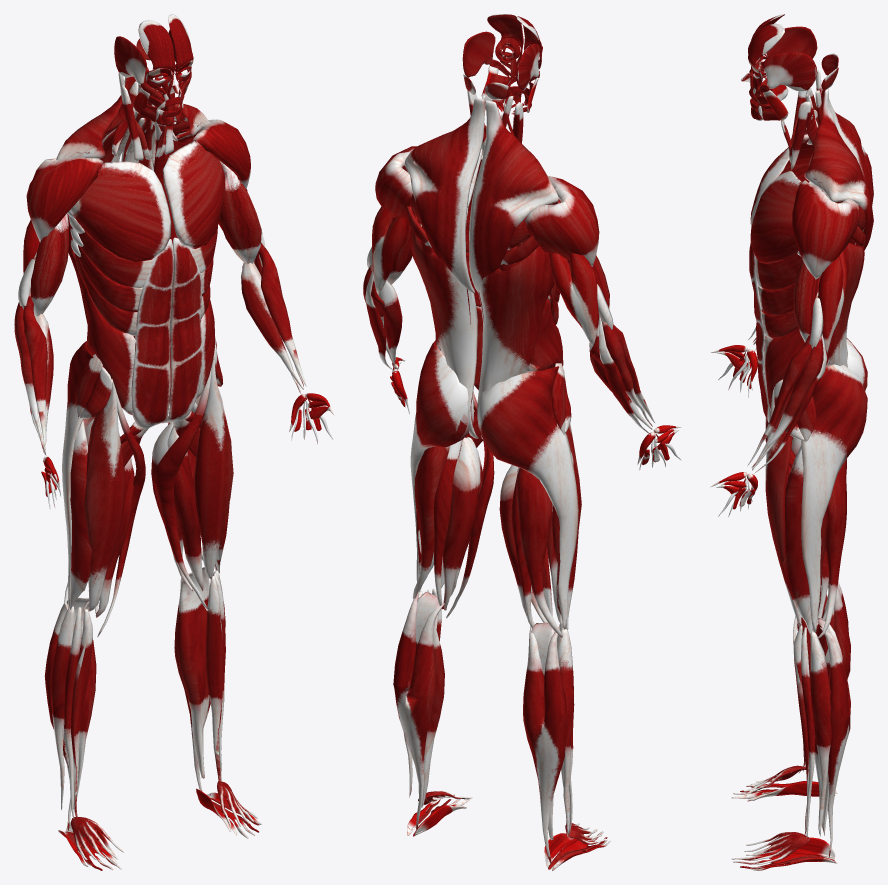
Rendered from Muscles.FBX.
3 renders of one model, left to right at view 1: azimuth 30°, elevation 25°; view 2: azimuth 150°, elevation 25°; view 3: azimuth 270°, elevation 25°, orthographic.
Parts seen in each view (by area): view 1: TorsoMusclesRectusAbdominisMuscle, TorsoMusclesPectoralMuscleRight, LegMusclesRectusFemorisMuscleRight, TorsoMusclesPectoralMuscleLeft, LegMusclesRectusFemorisMuscleLeft, LegMusclesSoleusMuscleLeft, ArmMusclesDeltoideusMuscleRight, TorsoMusclesObliqueRight04, LegMusclesSartoriusMuscleLeft, LegMusclesVastusLateralisMuscleRight, ArmMusclesBicepsBrachiiLeft, ArmMusclesBicepsBrachiiRight (+33 smaller); view 2: LegMusclesTensorFasciaeLataeMuscleRight, TorsoMusclesTrapeziusMuscleRight, TorsoMusclesTrapeziusMuscleLeft, TorsoMusclesLatissimMuscleRight, LegMusclesGastrocnemiusMuscleRight, TorsoMusclesLatissimMuscleLeft, LegMusclesGastrocnemiusMuscleLeft, LegMusclesTensorFasciaeLataeMuscleLeft, ArmMusclesDeltoideusMuscleRight, LegMusclesBicepFemorisMuscleRight1, LegMusclesVastusIntermediusMuscleLeft, ArmMusclesTricepMucsleRight (+21 smaller); view 3: LegMusclesTensorFasciaeLataeMuscleLeft, ArmMusclesDeltoideusMuscleLeft, TorsoMusclesTrapeziusMuscleLeft, LegMusclesVastusLateralisMuscleLeft, TorsoMusclesPectoralMuscleLeft, LegMusclesGastrocnemiusMuscleLeft, LegMusclesPeroneuslongusMuscleLeft, LegMusclesRectusFemorisMuscleLeft, LegMusclesBicepFemorisMuscleLeft1, ArmMusclesTricepMucsleLeft, TorsoMusclesLatissimMuscleLeft, HeadMusclesTemporalMuscleLeft (+29 smaller).
Boxes of the visible parts, left/top/right/bottom form: TorsoMusclesRectusAbdominisMuscle: left=131, top=237, right=203, bottom=429; TorsoMusclesPectoralMuscleRight: left=70, top=161, right=171, bottom=262; LegMusclesRectusFemorisMuscleRight: left=84, top=383, right=125, bottom=611; TorsoMusclesPectoralMuscleLeft: left=162, top=140, right=225, bottom=249; LegMusclesRectusFemorisMuscleLeft: left=194, top=358, right=233, bottom=579; LegMusclesSoleusMuscleLeft: left=176, top=567, right=209, bottom=778; ArmMusclesDeltoideusMuscleRight: left=26, top=156, right=103, bottom=242; TorsoMusclesObliqueRight04: left=78, top=271, right=135, bottom=414; LegMusclesSartoriusMuscleLeft: left=153, top=354, right=214, bottom=610; LegMusclesVastusLateralisMuscleRight: left=70, top=420, right=92, bottom=609; ArmMusclesBicepsBrachiiLeft: left=219, top=162, right=261, bottom=264; ArmMusclesBicepsBrachiiRight: left=30, top=213, right=69, bottom=316; LegMusclesTensorFasciaeLataeMuscleRight: left=478, top=366, right=578, bottom=629; TorsoMusclesTrapeziusMuscleRight: left=469, top=100, right=558, bottom=292; TorsoMusclesTrapeziusMuscleLeft: left=404, top=97, right=485, bottom=293; TorsoMusclesLatissimMuscleRight: left=477, top=247, right=554, bottom=438; LegMusclesGastrocnemiusMuscleRight: left=523, top=626, right=567, bottom=863; TorsoMusclesLatissimMuscleLeft: left=410, top=210, right=478, bottom=438; LegMusclesGastrocnemiusMuscleLeft: left=393, top=593, right=444, bottom=830; LegMusclesTensorFasciaeLataeMuscleLeft: left=410, top=340, right=473, bottom=592; ArmMusclesDeltoideusMuscleRight: left=525, top=176, right=599, bottom=266; LegMusclesBicepFemorisMuscleRight1: left=516, top=468, right=562, bottom=637; LegMusclesVastusIntermediusMuscleLeft: left=443, top=437, right=480, bottom=610; ArmMusclesTricepMucsleRight: left=549, top=253, right=598, bottom=346; LegMusclesTensorFasciaeLataeMuscleLeft: left=801, top=364, right=867, bottom=632; ArmMusclesDeltoideusMuscleLeft: left=792, top=180, right=859, bottom=279; TorsoMusclesTrapeziusMuscleLeft: left=804, top=88, right=873, bottom=250; LegMusclesVastusLateralisMuscleLeft: left=782, top=445, right=828, bottom=634; TorsoMusclesPectoralMuscleLeft: left=750, top=170, right=801, bottom=263; LegMusclesGastrocnemiusMuscleLeft: left=820, top=618, right=850, bottom=857; LegMusclesPeroneuslongusMuscleLeft: left=810, top=630, right=831, bottom=836; LegMusclesRectusFemorisMuscleLeft: left=765, top=390, right=801, bottom=625; LegMusclesBicepFemorisMuscleLeft1: left=817, top=463, right=846, bottom=638; ArmMusclesTricepMucsleLeft: left=818, top=250, right=847, bottom=353; TorsoMusclesLatissimMuscleLeft: left=827, top=242, right=864, bottom=367; HeadMusclesTemporalMuscleLeft: left=762, top=52, right=817, bottom=91.
Size of the model in its own units: 55.96 by 155 by 28.33.
